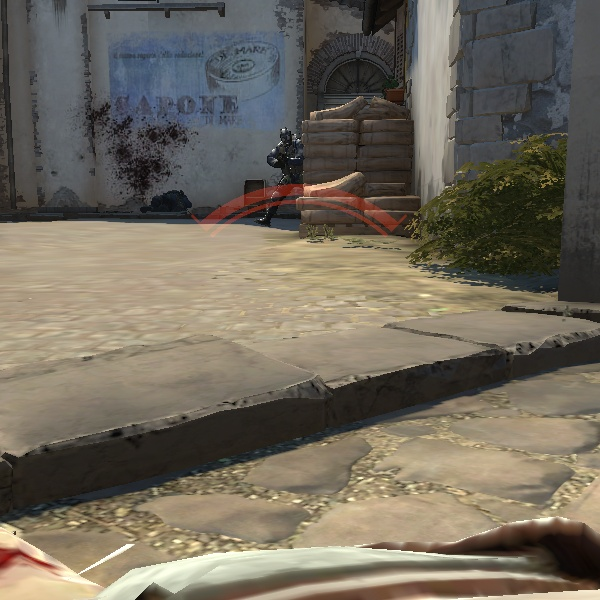ct_body: (265, 129, 309, 204)
